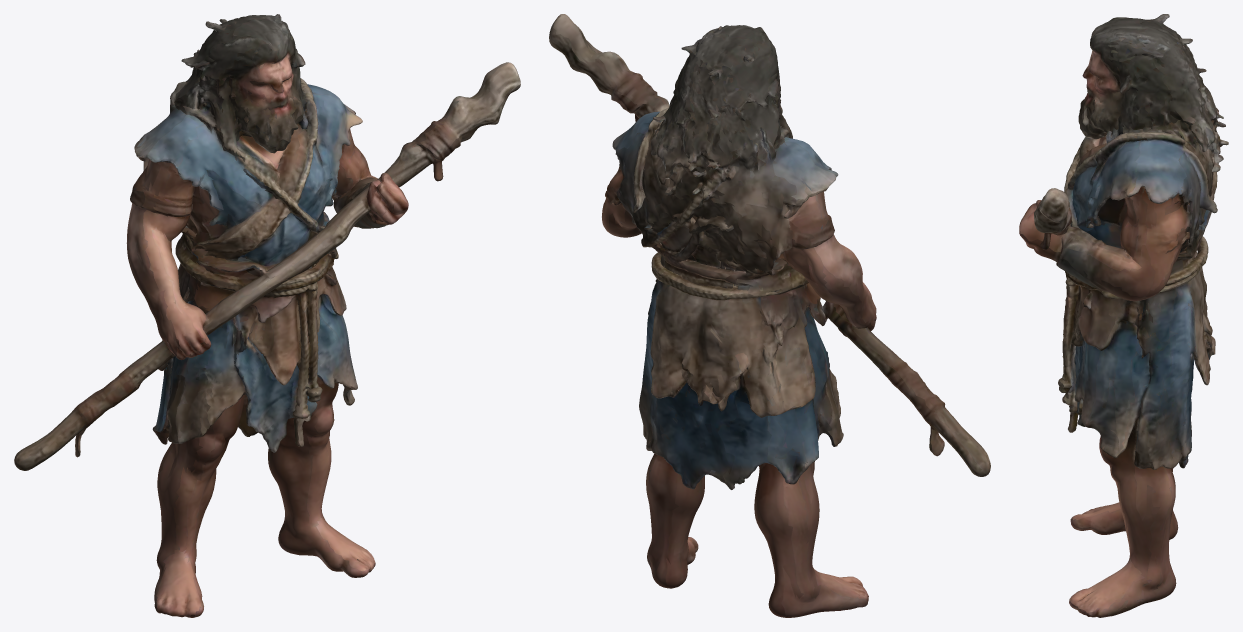
The model's file is kuafu.glb.
3 renders of one model, left to right at view 1: azimuth 30°, elevation 25°; view 2: azimuth 150°, elevation 25°; view 3: azimuth 270°, elevation 25°, orthographic.
Visible parts, largest first — view 1: geometry_0; view 2: geometry_0; view 3: geometry_0.
Part boxes in pixels (x1=…): geometry_0: x1=14, y1=14, x2=520, y2=617; geometry_0: x1=549, y1=14, x2=990, y2=617; geometry_0: x1=1019, y1=14, x2=1228, y2=617.
Size of the model in its own units: 1.6 by 1.8 by 0.6254.
Materials: 1 (1 with a texture image).
